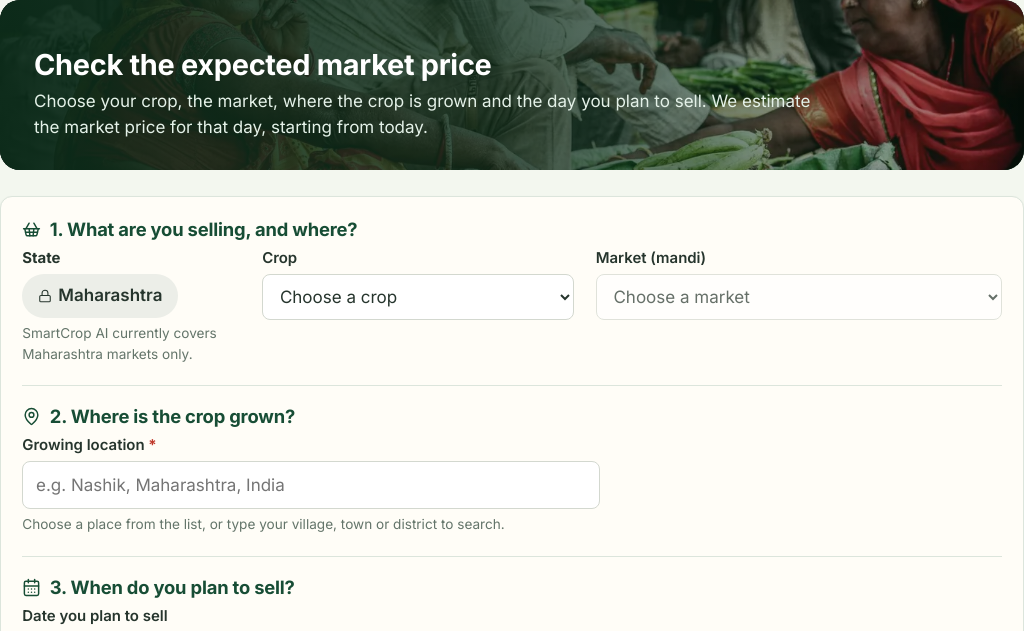
Test: growing location on the price form › shows suggestions, and the chosen place with its coordinates so the farmer can check it
Check: the dropdown labelled "Crop" is shown, box [262, 274, 574, 320]
Type "Nashik, Maharashtra, India" into the dropdown labelled "Growing location *" at (311, 485), box [22, 461, 600, 509]
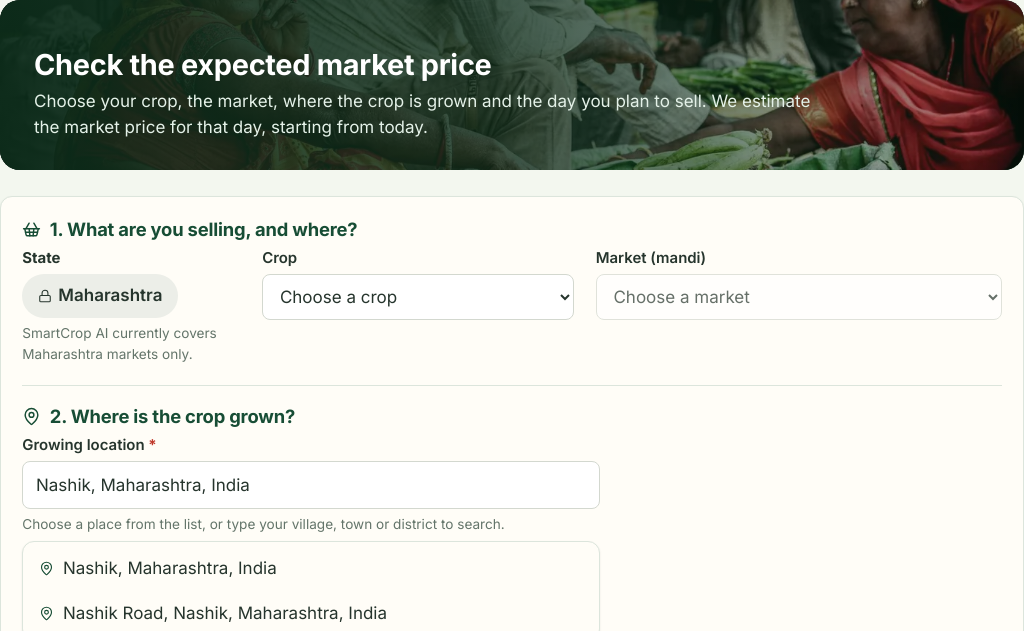
Press the mouse on the option "Nashik, Maharashtra, India" at (158, 568), box [39, 558, 277, 578]
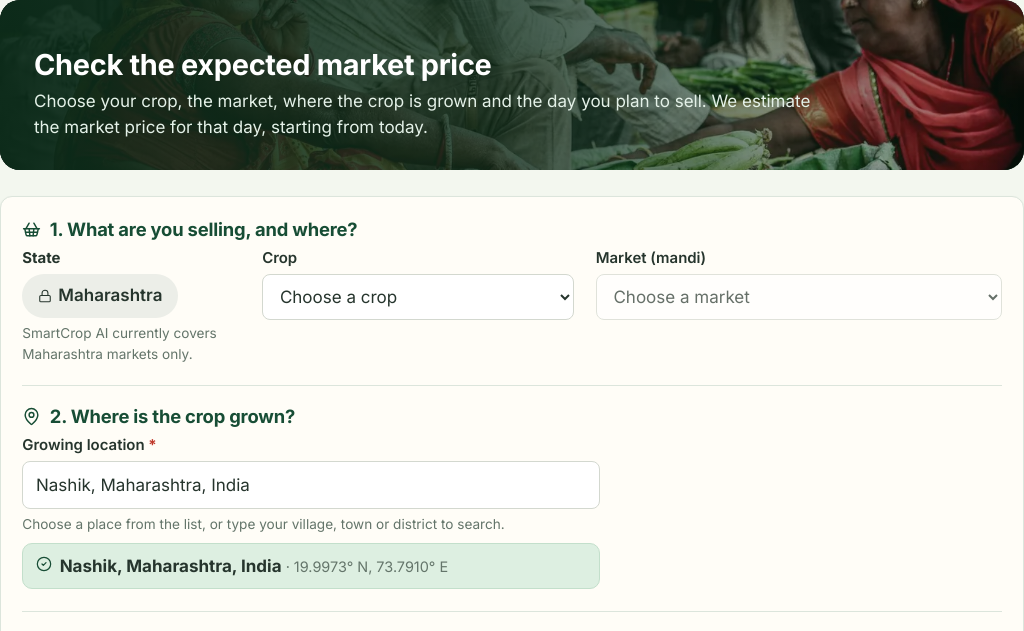
Check: the element with test id "growing-resolved" shows "Nashik, Maharashtra, India", box [60, 556, 282, 576]
Check: the element with test id "growing-resolved" shows "19.9973° N, 73.7910° E", box [294, 558, 448, 574]
Replace the text in the dropdown labelled "Growing location *" with "Sinnar" at (311, 485), box [22, 461, 600, 509]
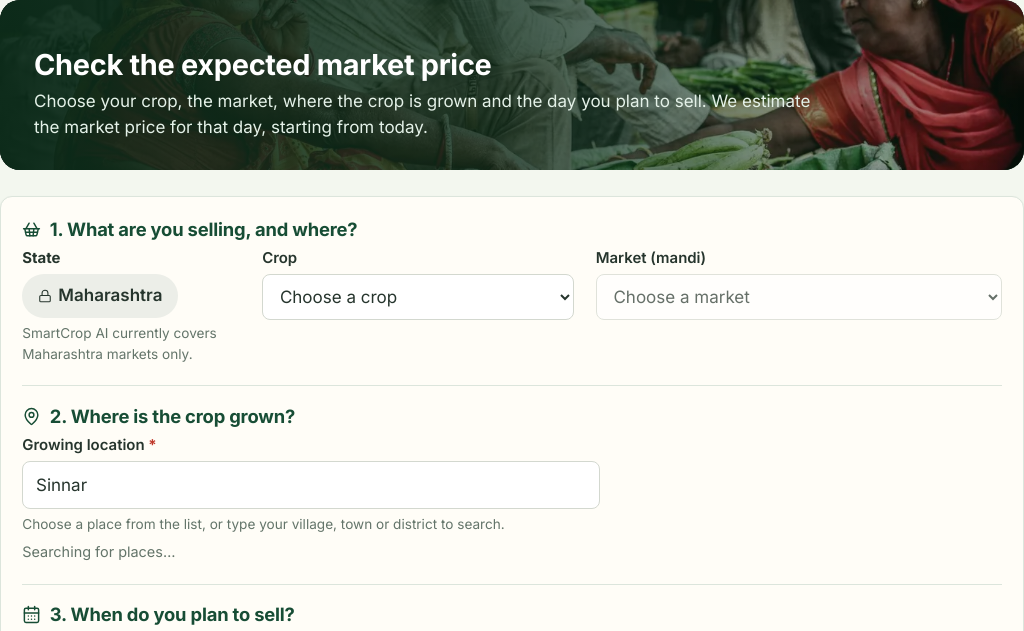
Check: the element with test id "growing-resolved" is gone
